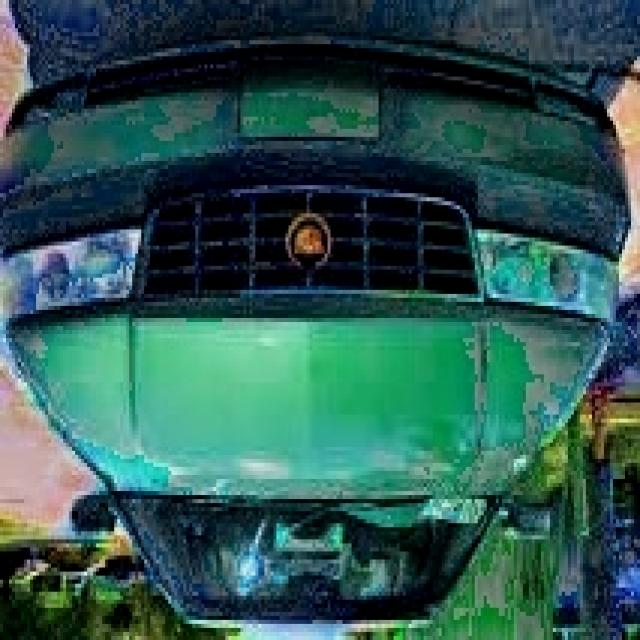green: (0, 30, 631, 626)
